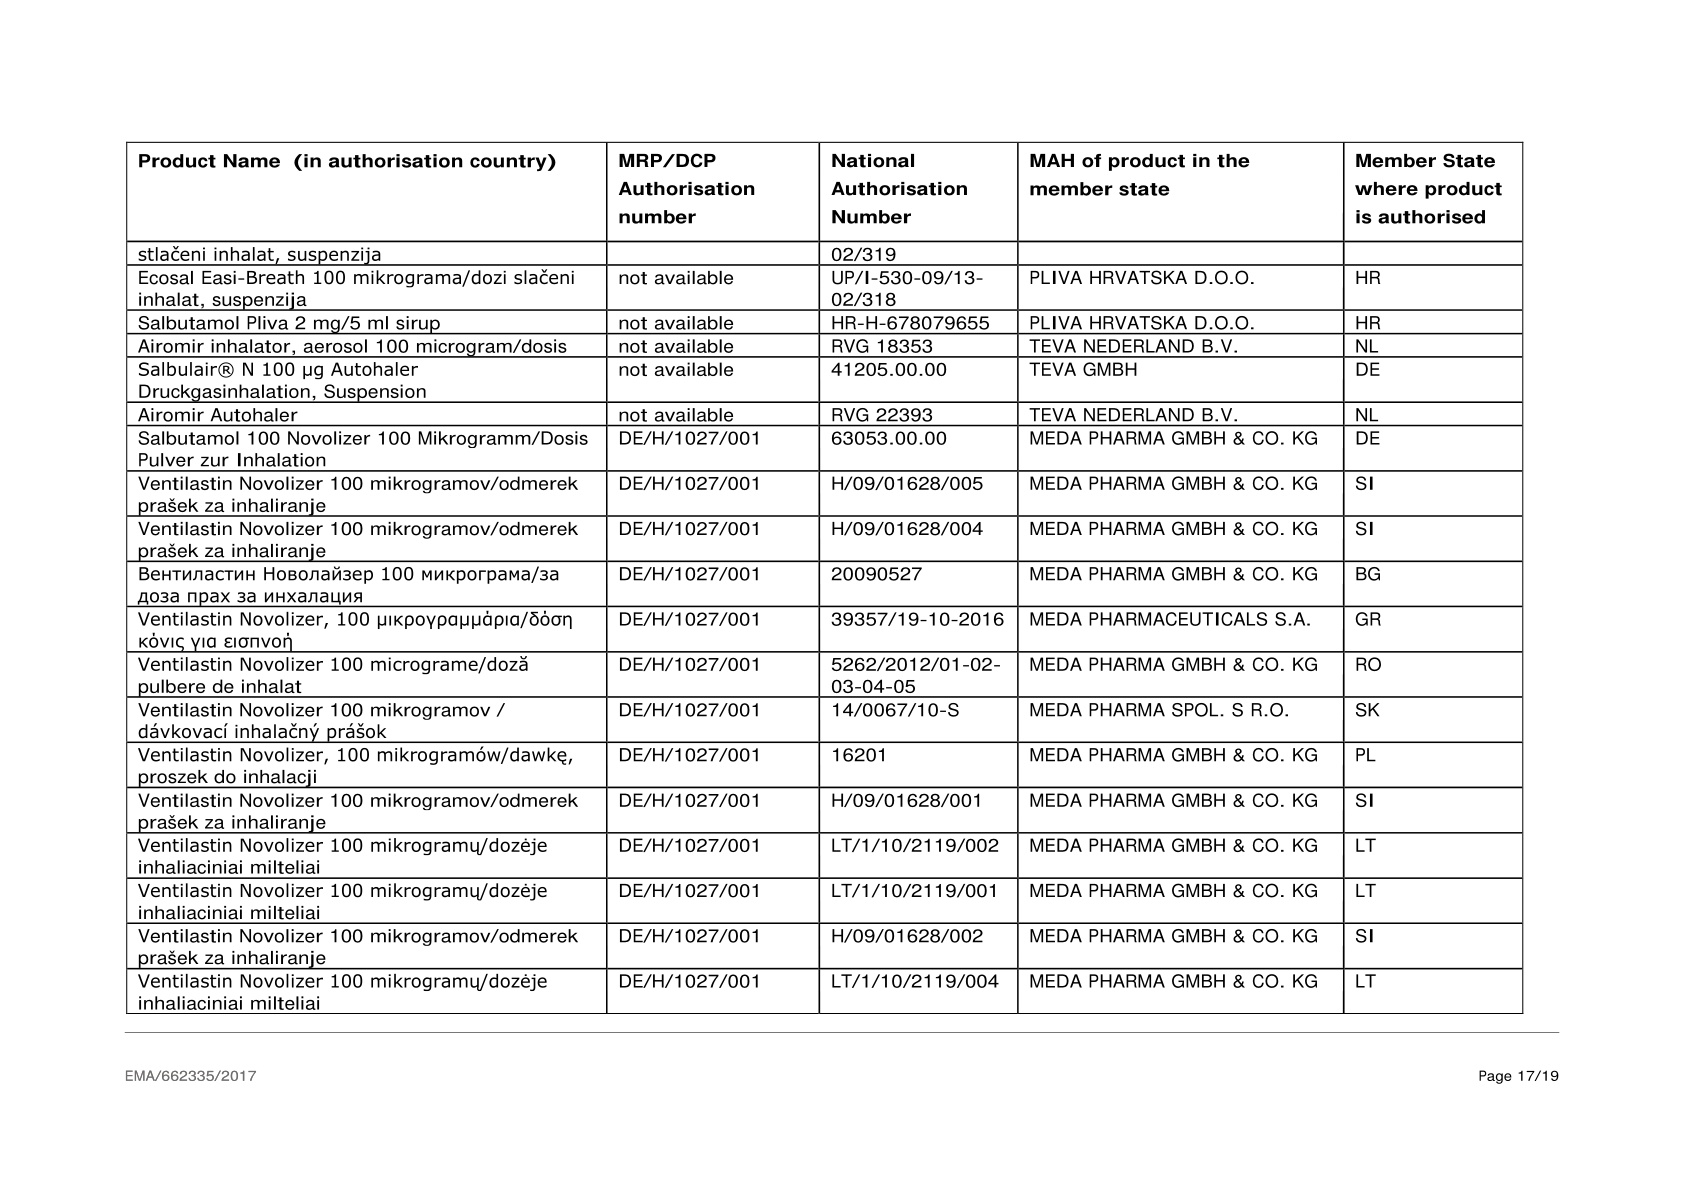full_lined: (124, 140, 1524, 1014)
